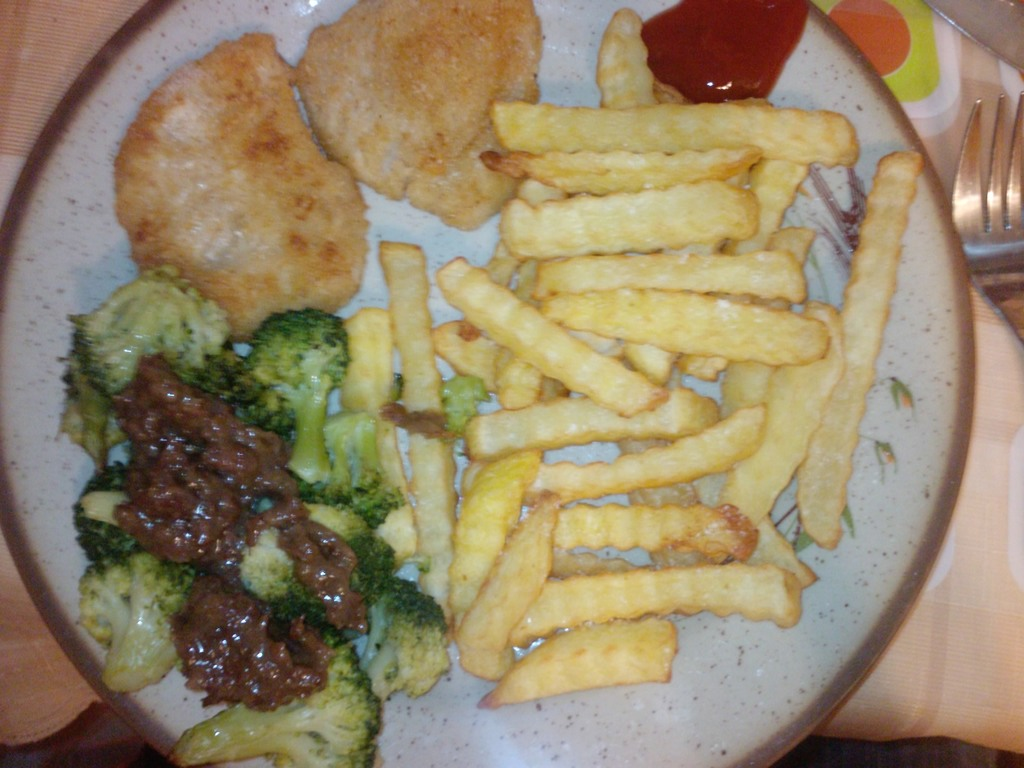French fries: (399, 91, 872, 704)
